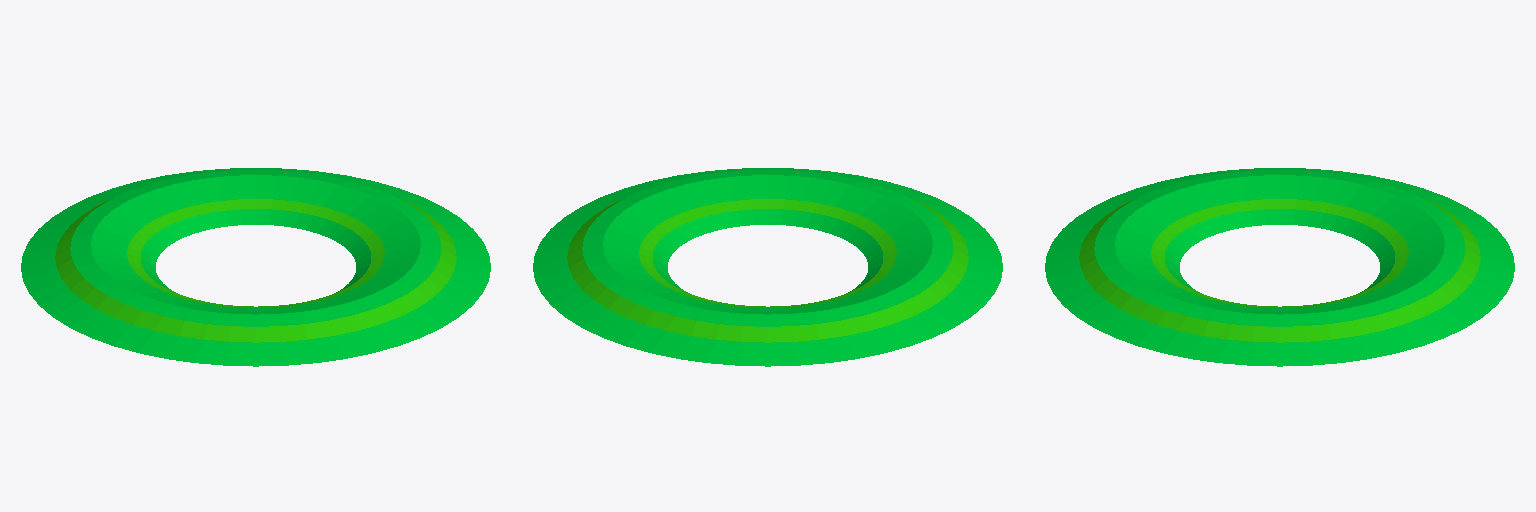
The model's file is FinishHole.obj.
3 renders of one model, left to right at view 1: azimuth 30°, elevation 25°; view 2: azimuth 150°, elevation 25°; view 3: azimuth 270°, elevation 25°, orthographic.
Visible parts, largest first — view 1: Hole_Torus; view 2: Hole_Torus; view 3: Hole_Torus.
Boxes of the visible parts, box(x1,y1,x2,y2) form: Hole_Torus: box(21, 168, 490, 366); Hole_Torus: box(533, 168, 1002, 366); Hole_Torus: box(1045, 168, 1514, 366).
Size of the model in its own units: 0.7956 by 0.0417 by 0.7956.